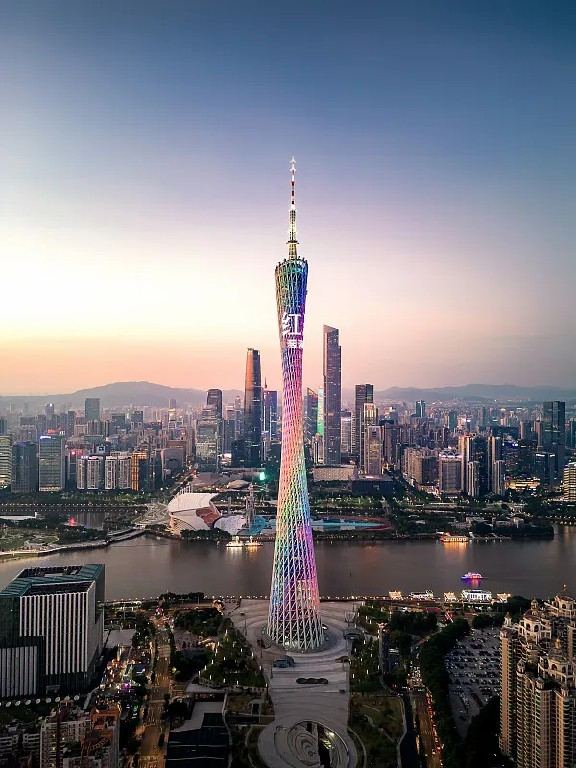Canton: (268, 157, 324, 649)
